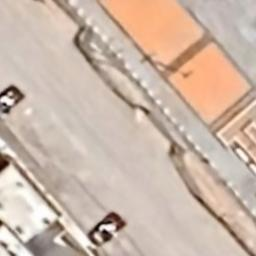sedan: (89, 214, 125, 247), (0, 87, 24, 119)
